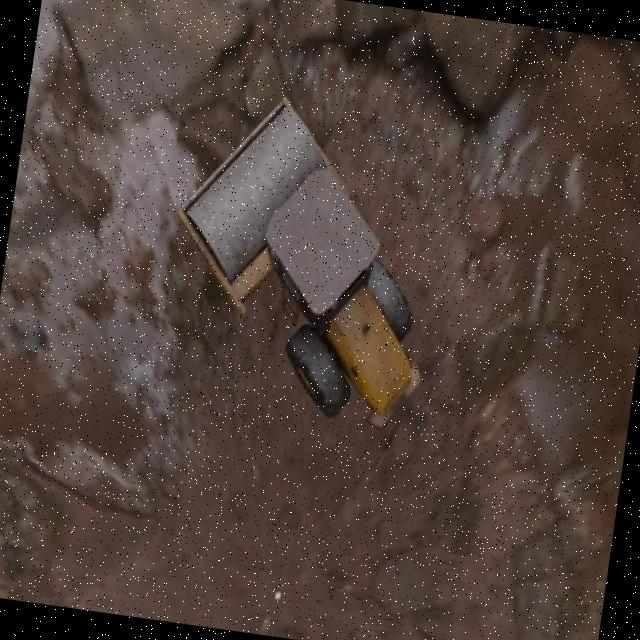Roller: (149, 83, 457, 434)
